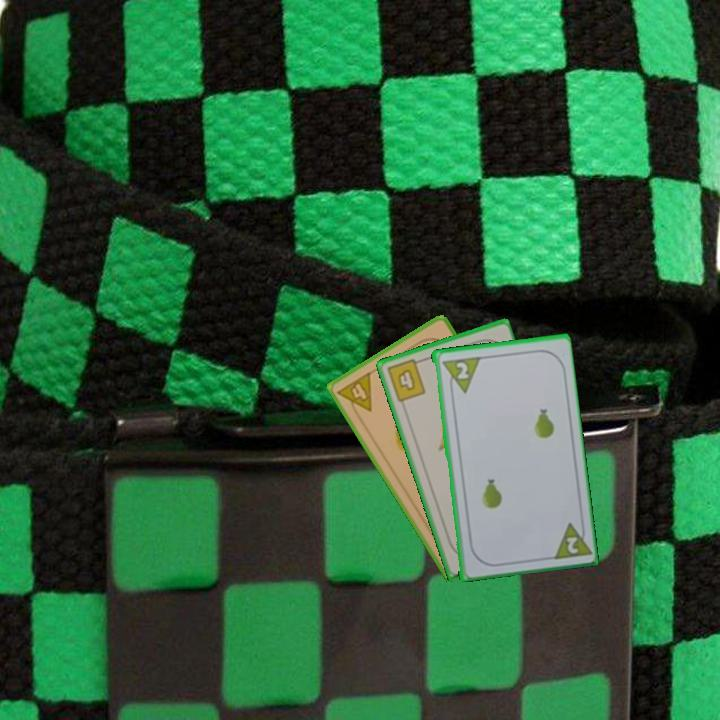2p: (548, 516, 592, 562), (452, 358, 471, 382)
4b: (383, 355, 428, 405)
4p: (333, 368, 375, 421)
